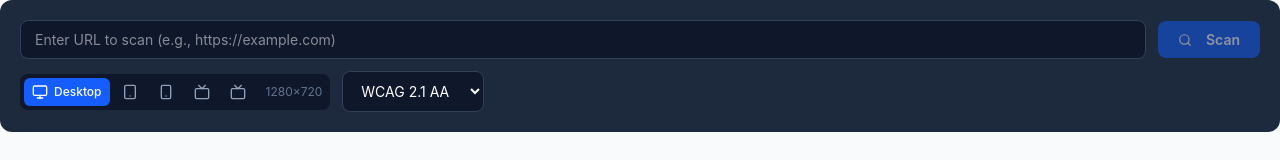
Test: components/scan/ScanForm › shows TV HD viewport dimensions when selected
Step 1. Click the button named "TV HD (1280×720)" → {"x": 202, "y": 92}, box 186,78 -> 218,106
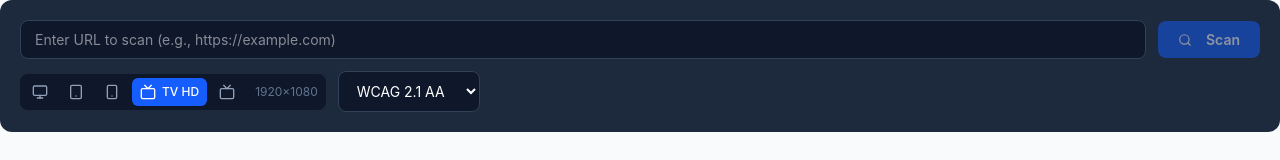
Check: the text "1920×1080" is shown, box 255,84 -> 318,98
